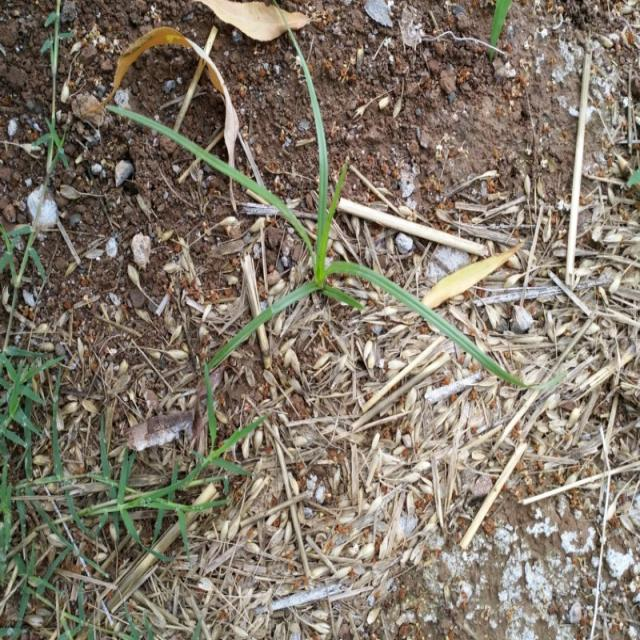sedge: (149, 72, 507, 408)
